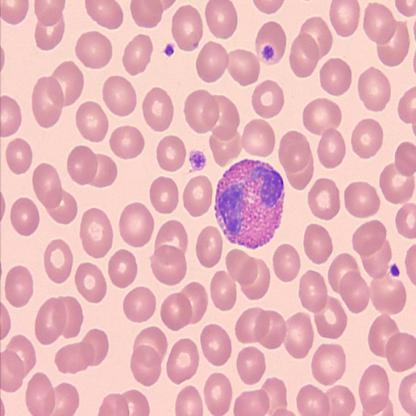Eosinophil: (215, 158, 284, 250)
